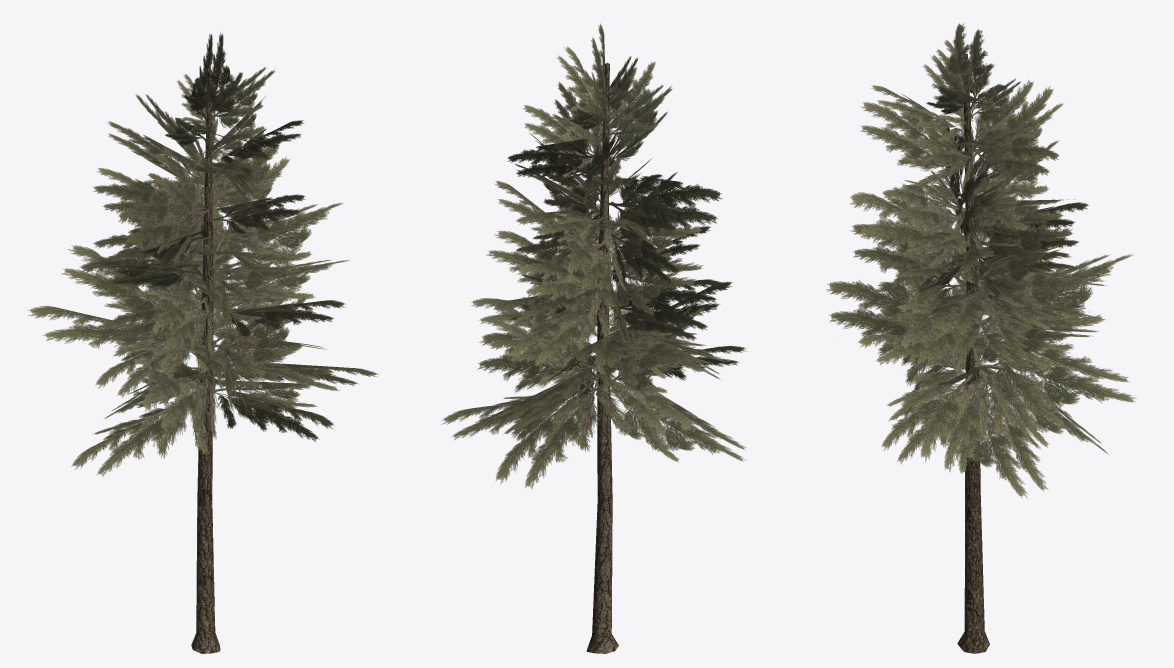
Rendered from fir-tree.glb.
3 renders of one model, left to right at view 1: azimuth 30°, elevation 25°; view 2: azimuth 150°, elevation 25°; view 3: azimuth 270°, elevation 25°, orthographic.
Parts seen in each view (by area): view 1: Pine_s_1_; view 2: Pine_s_1_; view 3: Pine_s_1_.
Part boxes in pixels (left/top/right/bottom): Pine_s_1_: left=28, top=32, right=378, bottom=653; Pine_s_1_: left=441, top=23, right=746, bottom=653; Pine_s_1_: left=826, top=23, right=1136, bottom=653.
Size of the model in its own units: 416 by 740 by 375.
Materials: 2 (1 with a texture image).
